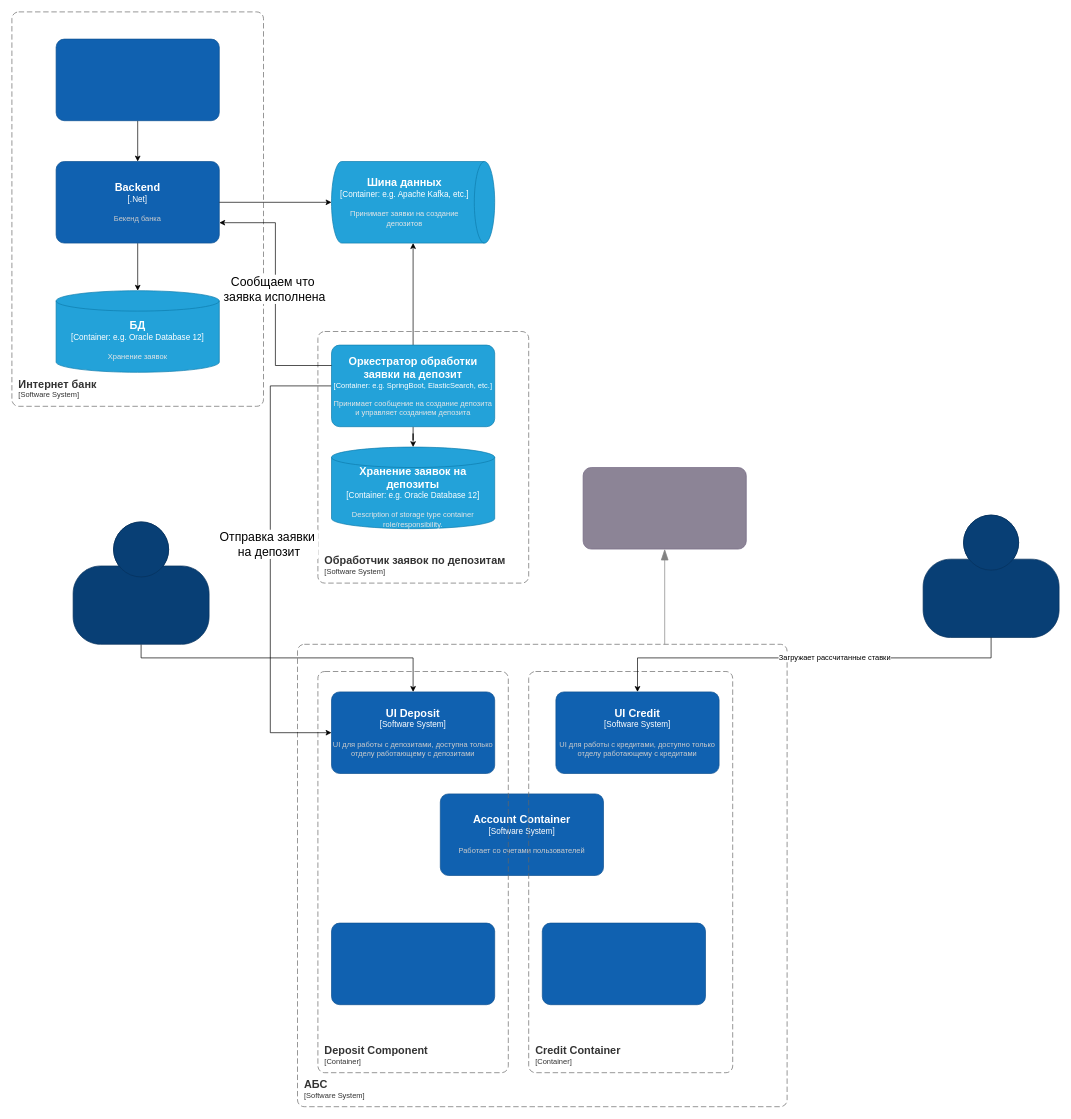
The diagram is 1071 pixels wide and 1119 high, and some of its shapes have lost their labels. The shapes that lost their labels are listed below. From the top down, each one's centre as x and y in pixels, then its label:
pixel 137 79: WEB UI [React] Фронтенд банка
pixel 664 508: SMS-шлюз [Software System] Description of external software system.
pixel 140 582: Депозитный менеджер [Person] Description of person.
pixel 990 576: Кредитный менеджер [Person] Description of person.
pixel 413 963: Deposit Container [Software System] Работает с депозитами и их ставки
pixel 624 963: Credit Container [Software System] Работает с заявками/выданными кредитами
